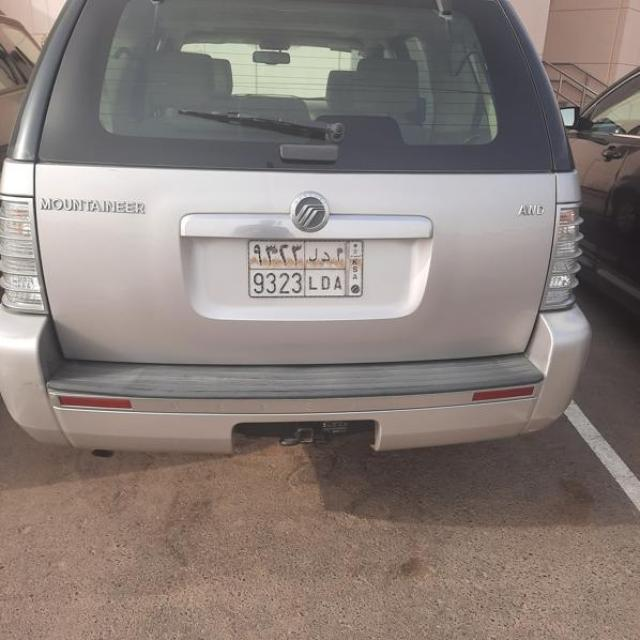license_plate: (245, 241, 366, 299)
